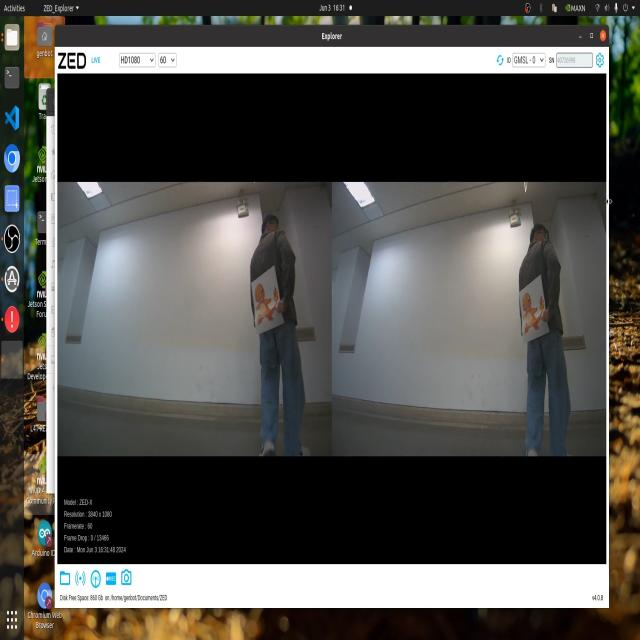red: (249, 278, 282, 326), (518, 284, 547, 332)
